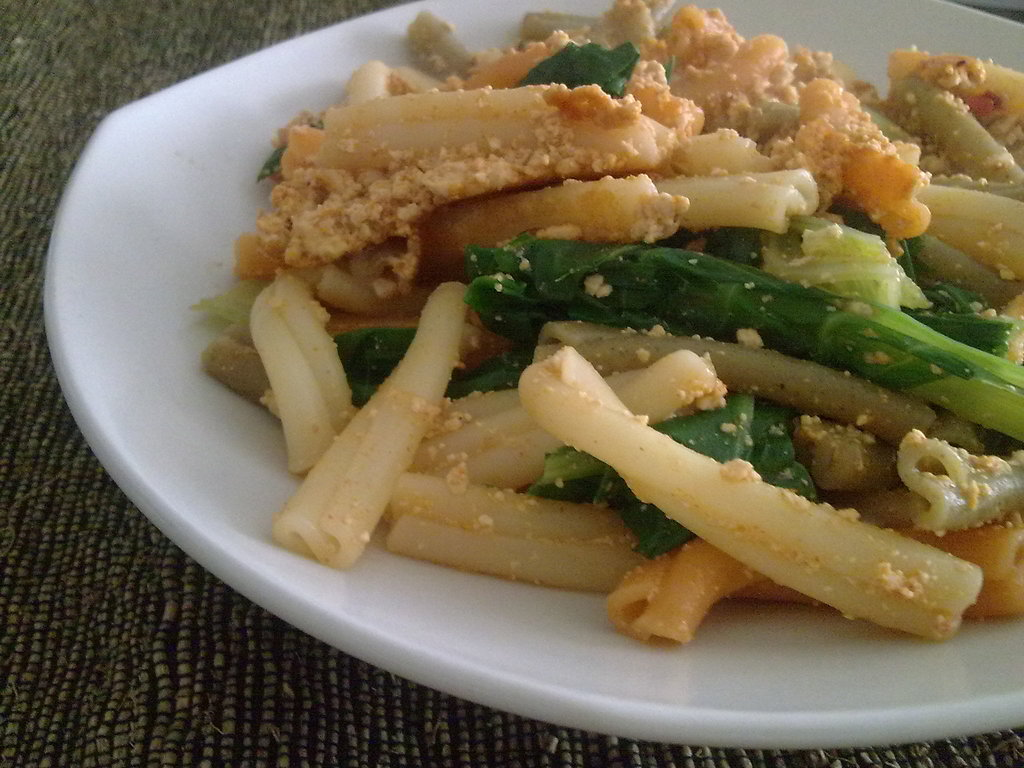pasta: (221, 13, 1005, 649)
